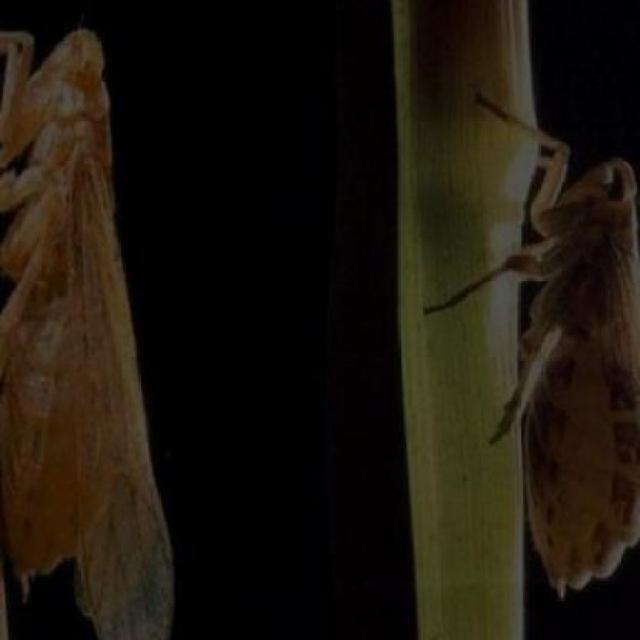brown-planthopper: (1, 24, 167, 640), (521, 120, 640, 604)
